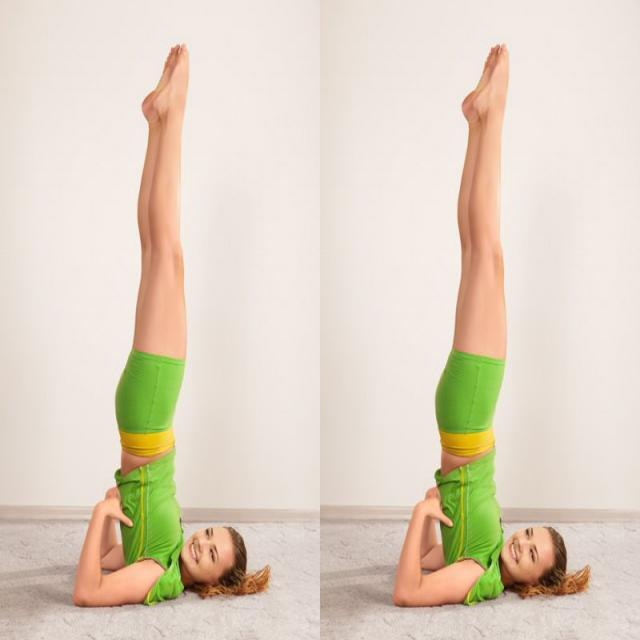yoga-pose shoulderstand: (376, 39, 572, 616), (65, 40, 262, 604)
